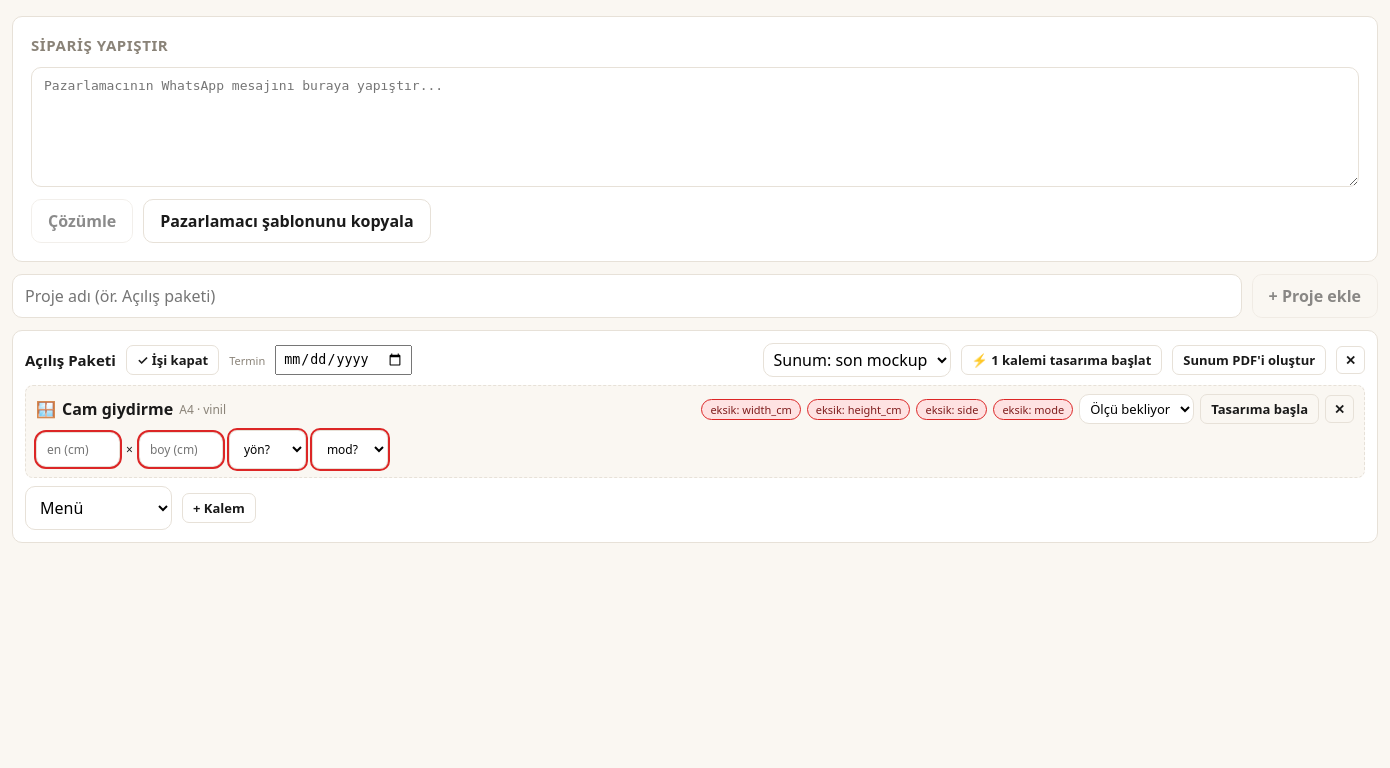
Test: toplu başlatma sonucu › HEPSİ AÇILIRSA panel LİSTE ÇİZMEZ — başarılılar sayıyla
Click the button "⚡ 1 kalemi tasarıma başlat" at (1062, 360), box [961,345,1162,375]
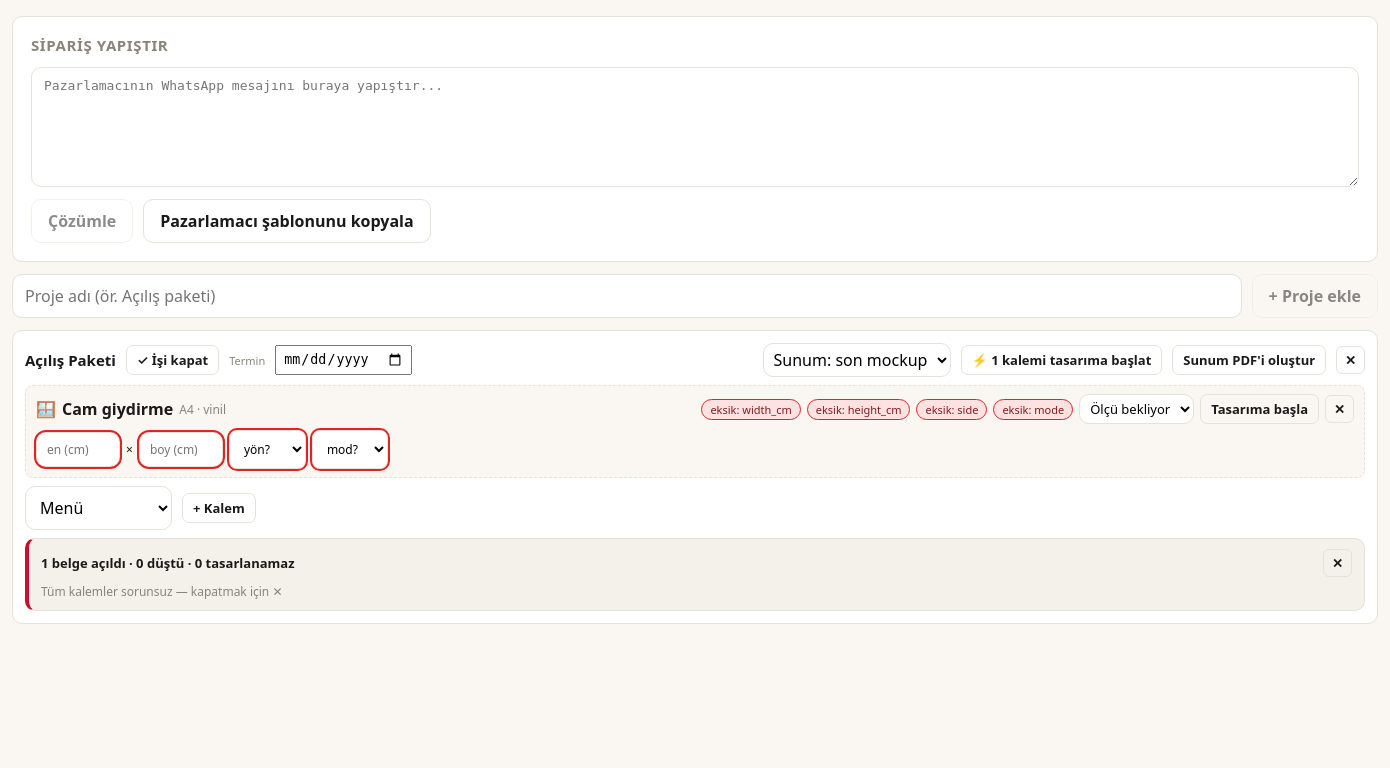
expect the element with class "tur-sonucu" shows "sorunsuz": met, box [41,583,282,600]
